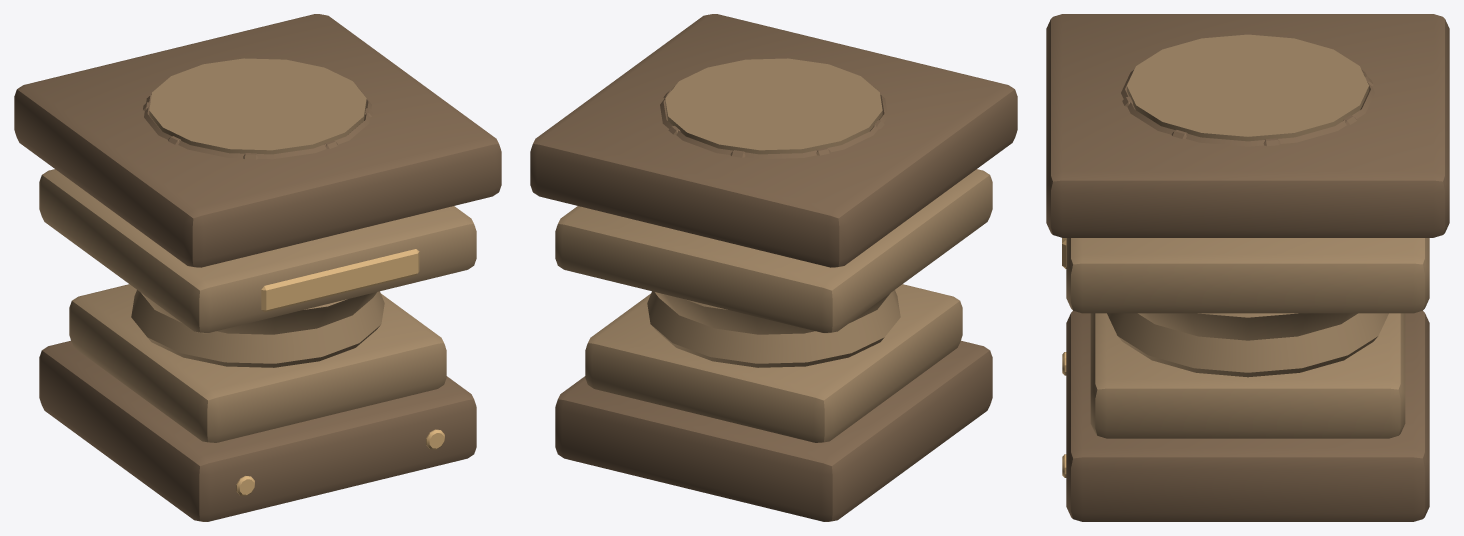
The model's file is pillar.glb.
3 views of the same model, side by side, from view 1: azimuth 30°, elevation 25°; view 2: azimuth 150°, elevation 25°; view 3: azimuth 270°, elevation 25° (orthographic). The views are drawn at different scales.
Parts seen in each view (by area): view 1: pillar_capital, pillar_base, pillar_shaft; view 2: pillar_capital, pillar_base, pillar_shaft; view 3: pillar_capital, pillar_base, pillar_shaft.
Boxes of the visible parts, x1,y1,x2,y2 form: pillar_capital: (14,14,501,334); pillar_base: (39,58,476,521); pillar_shaft: (143,86,372,159); pillar_capital: (530,14,1017,334); pillar_base: (555,58,992,521); pillar_shaft: (660,85,887,159); pillar_capital: (1046,14,1449,340); pillar_base: (1062,34,1429,521); pillar_shaft: (1121,69,1374,146).
Size of the model in its own units: 1 by 1 by 1.
